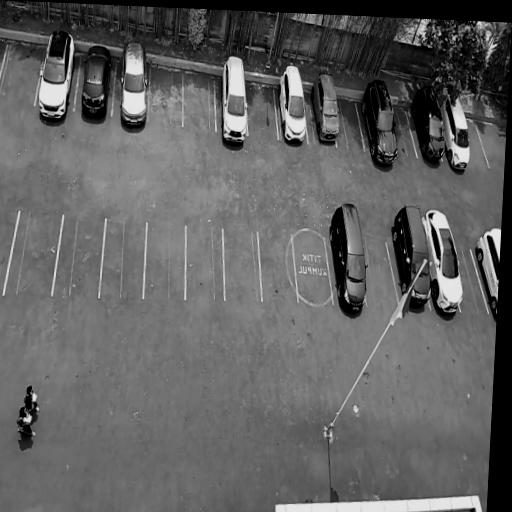Car: (420, 205, 466, 325), (388, 202, 431, 315), (326, 203, 367, 318), (33, 29, 78, 126), (358, 78, 398, 170), (409, 81, 445, 169), (116, 36, 148, 132), (275, 64, 310, 149), (78, 42, 115, 119), (439, 91, 472, 177), (308, 71, 341, 149), (221, 55, 248, 150), (224, 511, 252, 512)
Space Available: (4, 211, 63, 293), (52, 214, 106, 296), (99, 220, 146, 298), (144, 224, 185, 298), (0, 39, 44, 107), (291, 235, 333, 305), (185, 227, 224, 300), (224, 228, 261, 302), (258, 231, 297, 300), (363, 240, 400, 309), (456, 247, 489, 314), (149, 67, 182, 125), (184, 71, 215, 130), (246, 82, 278, 138), (0, 208, 19, 291), (392, 102, 418, 158), (337, 96, 364, 148), (466, 118, 490, 168), (0, 36, 8, 73)
